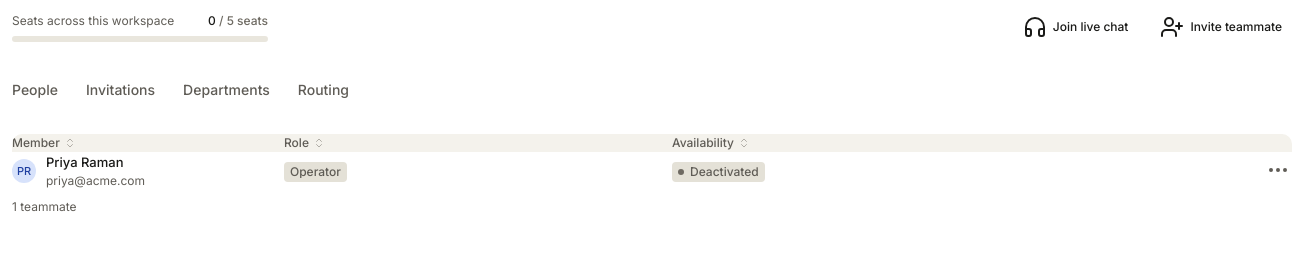
Test: MembersPage — deactivating a teammate › offers reactivation, not deactivation, on somebody already switched off
Expected: the text "Priya Raman" is shown, [46,152,124,172]
Expected: the text "Deactivated" is shown, [690,166,759,178]
Click the button named "actions for priya raman".
click(1278, 170)  # box [1264,156,1292,184]
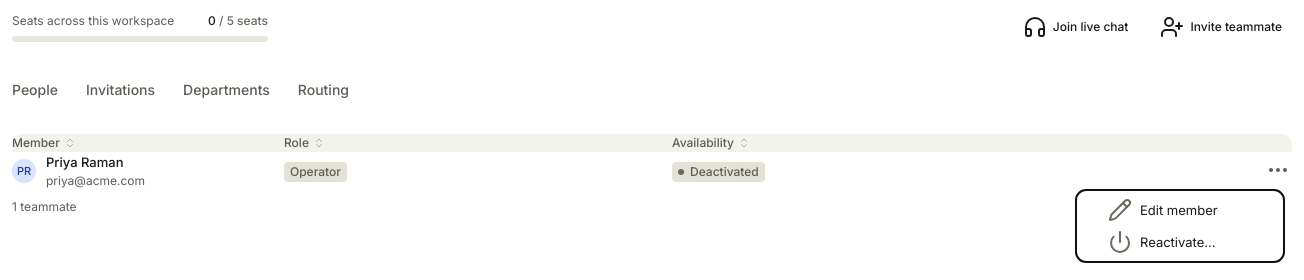
Result: the menu item "Reactivate…" is shown at [1108,230,1216,254]
